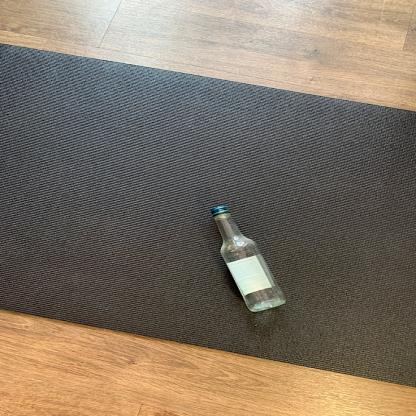trash: (210, 204, 290, 314)
